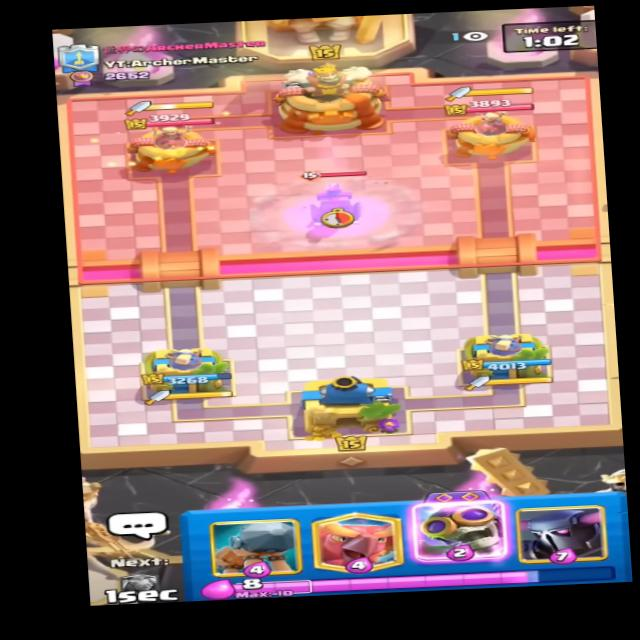evo-tesla: (289, 166, 379, 229)
